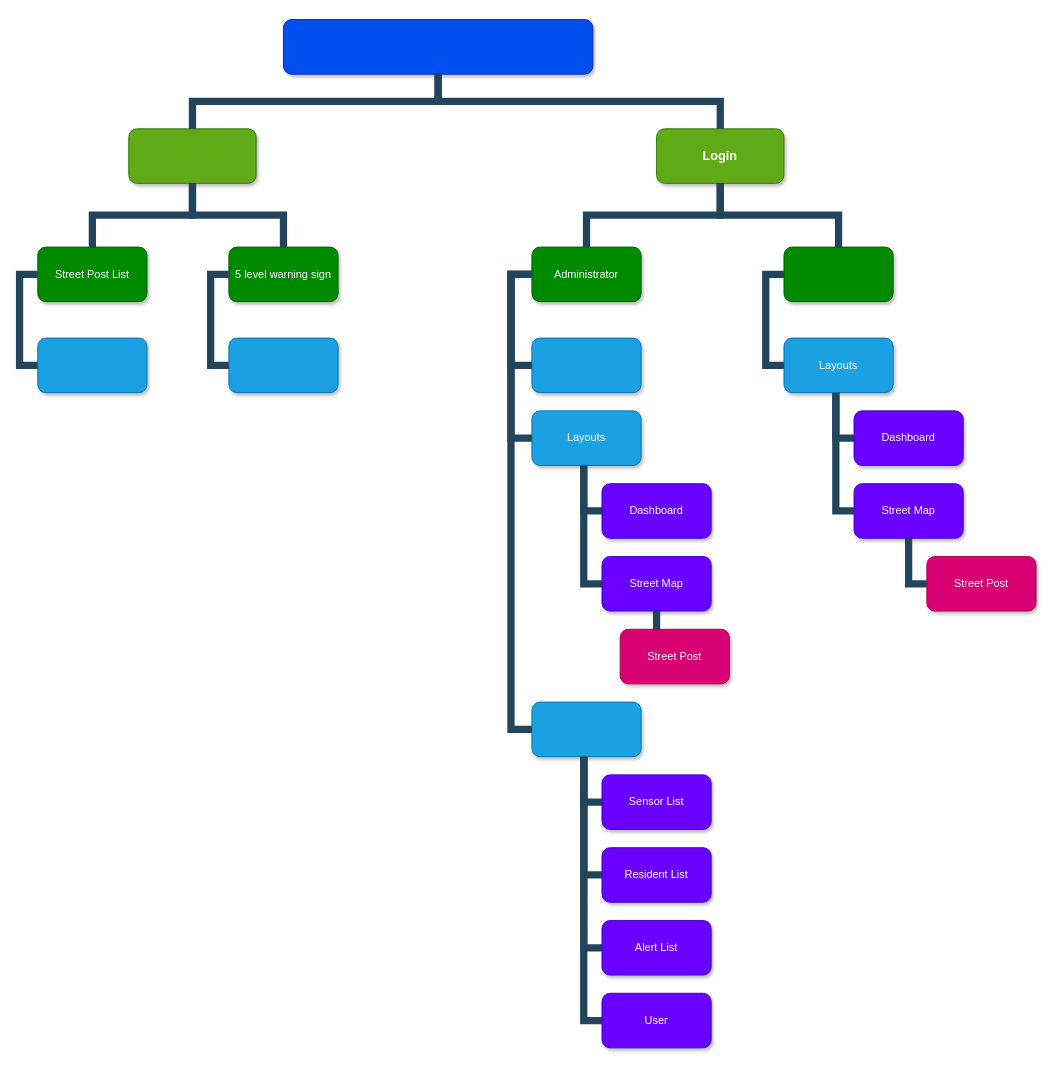
Some shapes in this 1057 by 1070 pixel diagram are drawn without their labels. Here are the shapes that lost their labels. From the top down, the centre of each, then its label:
(438,48): Barangay website
(193,157): Home
(839,275): Barangay Rescue Team Officer
(92,366): Flood level warning
(284,366): warning sign Info
(587,366): Admin Database
(587,730): Maintenance
